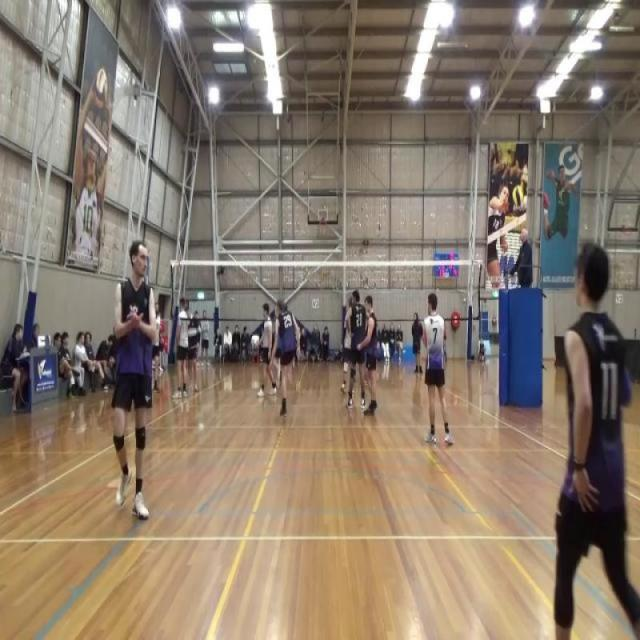volleyball: (92, 68, 110, 114), (512, 185, 524, 209)
